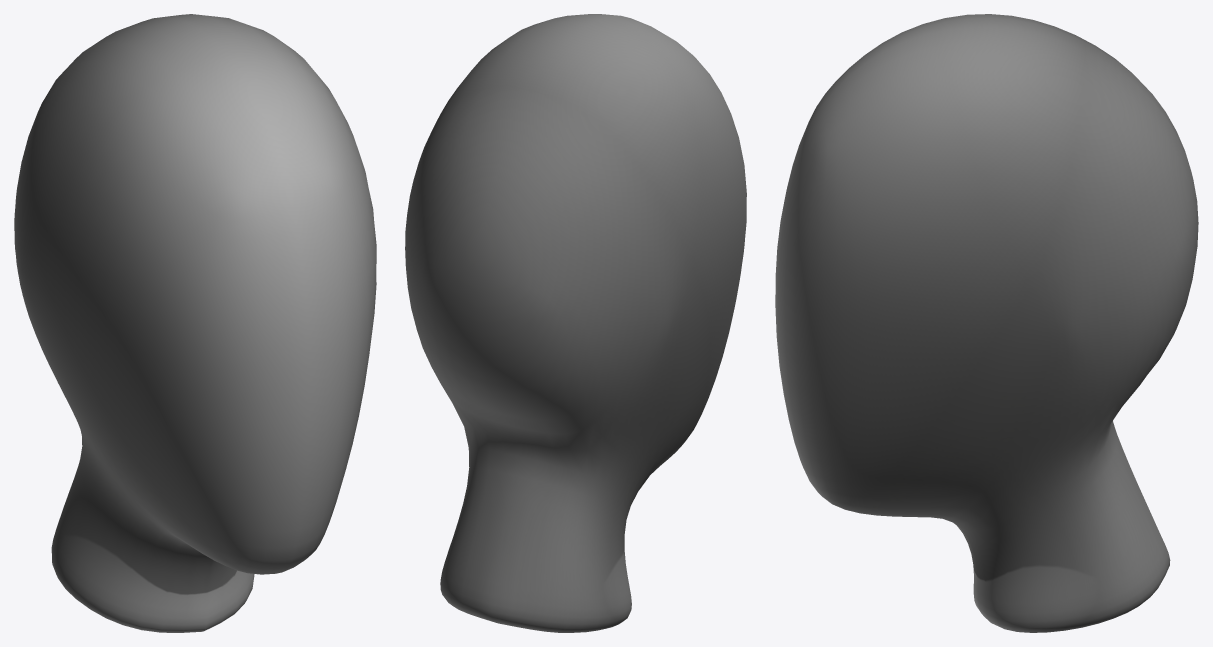
Rendered from GenericHeadVR.glb.
3 views of the same model, side by side, from view 1: azimuth 30°, elevation 25°; view 2: azimuth 150°, elevation 25°; view 3: azimuth 270°, elevation 25° (orthographic). The views are drawn at different scales.
Visible parts, largest first — view 1: Cube.003; view 2: Cube.003; view 3: Cube.003.
Boxes of the visible parts, x1,y1,x2,y2 form: Cube.003: (14,14,376,632); Cube.003: (405,14,746,632); Cube.003: (775,14,1198,632).
Bounding box in the file's own units: 0.2118 × 0.4299 × 0.2819.
Materials: 1 (1 with a texture image).
